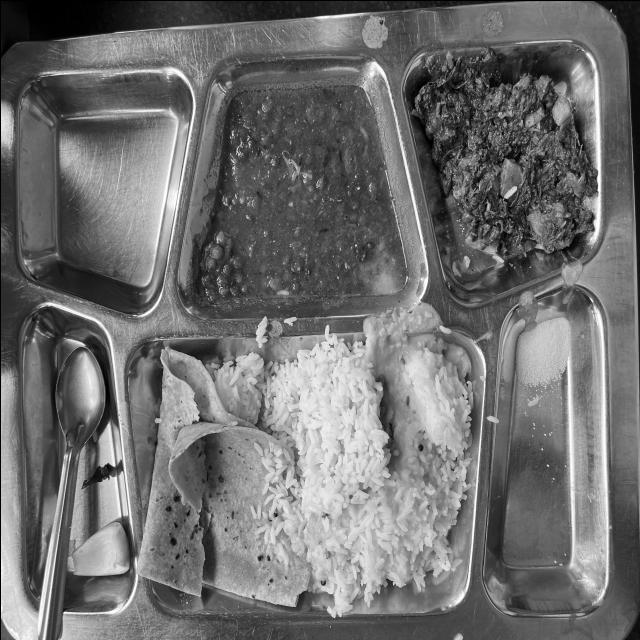Full-Plate: (15, 48, 615, 633)
